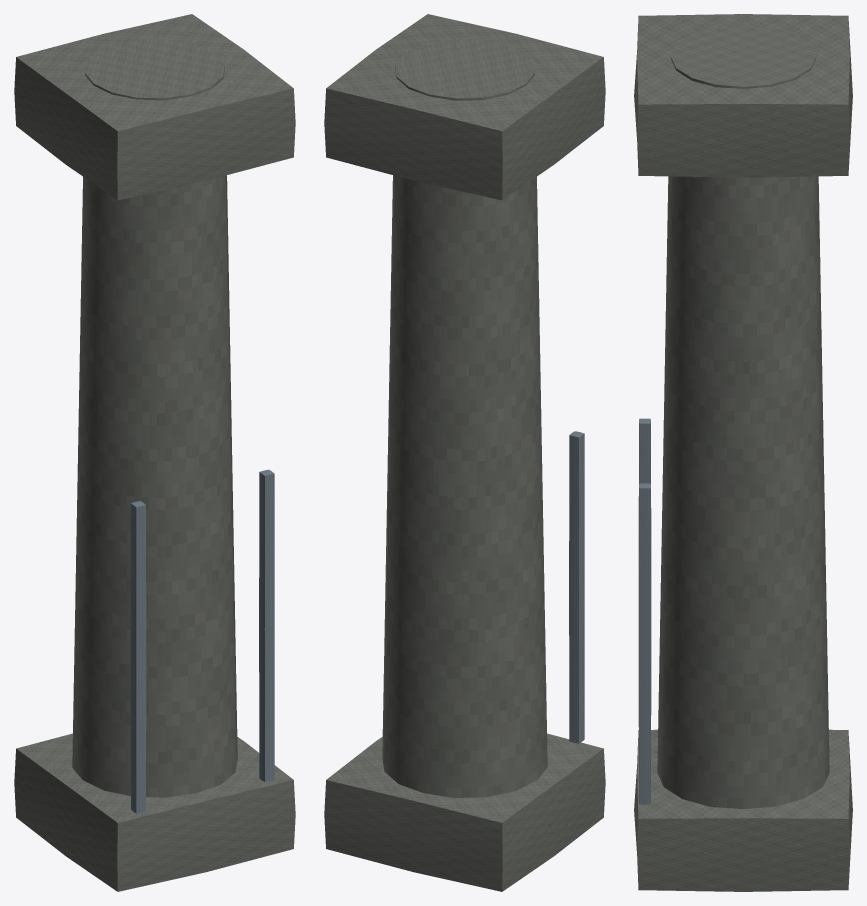
The picture shows the model from 3 angles, left to right: view 1: azimuth 30°, elevation 25°; view 2: azimuth 150°, elevation 25°; view 3: azimuth 270°, elevation 25°; orthographic projection. The views are drawn at different scales.
Parts seen in each view (by area): view 1: stone.0, stone.2, stone.1, steel.3, steel.4; view 2: stone.0, stone.2, stone.1, steel.3; view 3: stone.0, stone.2, stone.1, steel.4, steel.3.
Part boxes in pixels (<box>): stone.0: <box>72,39,237,797</box>; stone.2: <box>14,14,295,200</box>; stone.1: <box>14,733,295,891</box>; steel.3: <box>130,501,146,813</box>; steel.4: <box>259,469,274,781</box>; stone.0: <box>382,39,547,797</box>; stone.2: <box>324,14,605,200</box>; stone.1: <box>324,733,605,891</box>; steel.3: <box>569,431,584,743</box>; stone.0: <box>657,25,829,808</box>; stone.2: <box>634,14,852,177</box>; stone.1: <box>634,729,852,891</box>; steel.4: <box>638,483,651,804</box>; steel.3: <box>638,418,651,572</box>.
Bounding box in the file's own units: 0.6 × 2.4 × 0.6.
2 materials, 2 textured.
